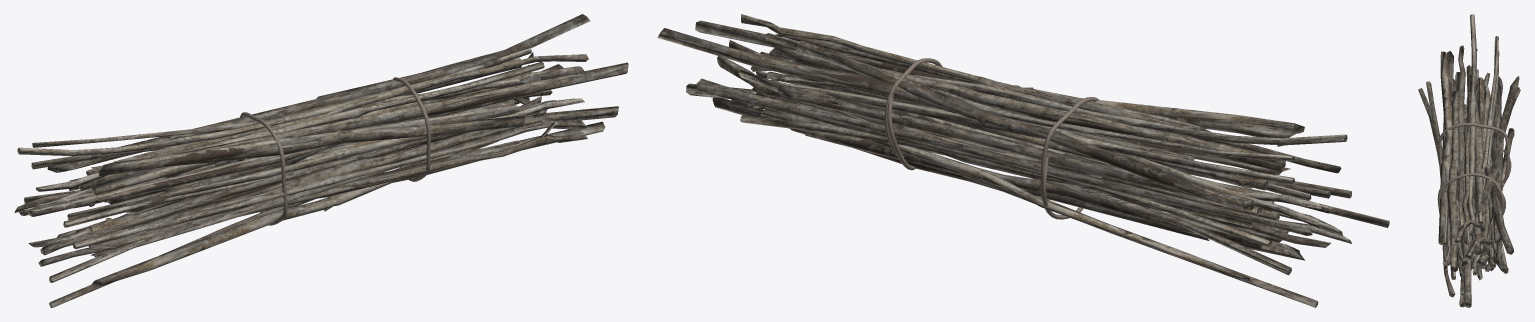
File: SM_TwigPile2.fbx
The picture shows the model from 3 angles, left to right: view 1: azimuth 30°, elevation 25°; view 2: azimuth 150°, elevation 25°; view 3: azimuth 270°, elevation 25°; orthographic projection. The views are drawn at different scales.
Visible parts, largest first — view 1: SM_TwigPile2_LOD0; view 2: SM_TwigPile2_LOD0; view 3: SM_TwigPile2_LOD0.
Boxes of the visible parts, x1=… form: SM_TwigPile2_LOD0: x1=14, y1=14, x2=628, y2=307; SM_TwigPile2_LOD0: x1=657, y1=14, x2=1389, y2=307; SM_TwigPile2_LOD0: x1=1418, y1=14, x2=1520, y2=307.
Size of the model in its own units: 275 by 55.29 by 72.4.
